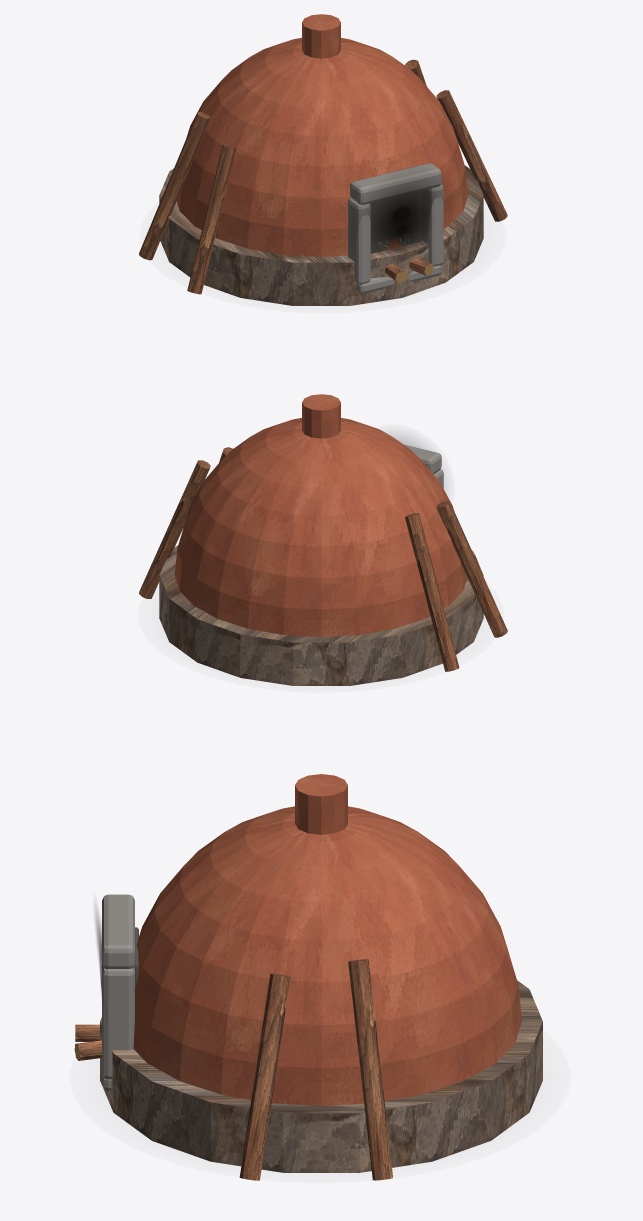
File: kiln.glb
3 renders of one model, top to bottom at view 1: azimuth 30°, elevation 25°; view 2: azimuth 150°, elevation 25°; view 3: azimuth 270°, elevation 25°, orthographic. The views are drawn at different scales.
Visible parts, largest first — view 1: dome, base, sootStain, brace.001, braceB.001, mouthLintel, mouthCavity, braceB, mouthPost, vent, mouthPost.001, sootCore (+1 smaller); view 2: dome, base, brace.001, braceB.001, brace, vent; view 3: dome, base, brace, braceB, mouthPost.001, vent, mouthLintel.
Part boxes in pixels (x1,y1,x2,y2): dome: (176, 38, 468, 256); base: (159, 165, 483, 305); sootStain: (361, 177, 442, 252); brace.001: (139, 112, 210, 260); braceB.001: (187, 144, 236, 294); mouthLintel: (350, 163, 441, 204); mouthCavity: (370, 191, 421, 253); braceB: (436, 90, 507, 221); mouthPost: (348, 198, 370, 284); vent: (302, 14, 340, 58); mouthPost.001: (422, 184, 443, 266); sootCore: (378, 208, 425, 249); dome: (174, 418, 467, 636); base: (159, 545, 483, 685); brace.001: (405, 513, 459, 671); braceB.001: (436, 500, 507, 637); brace: (139, 460, 210, 598); vent: (302, 394, 340, 438); dome: (133, 806, 521, 1105); base: (100, 980, 542, 1172); brace: (348, 959, 392, 1180); braceB: (239, 973, 290, 1180); mouthPost.001: (102, 966, 134, 1079); vent: (295, 774, 347, 834); mouthLintel: (102, 894, 134, 968).
Size of the model in its own units: 3 by 1.59 by 3.
Materials: 11 (7 with a texture image).
